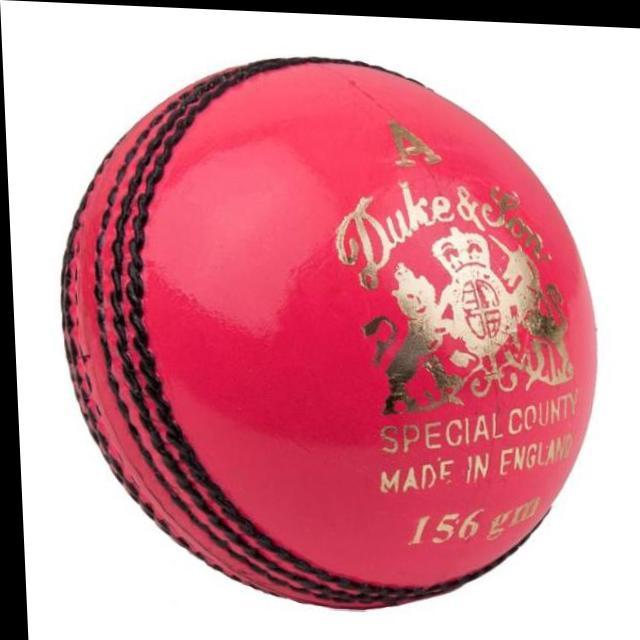cricket ball: (58, 53, 595, 608)
